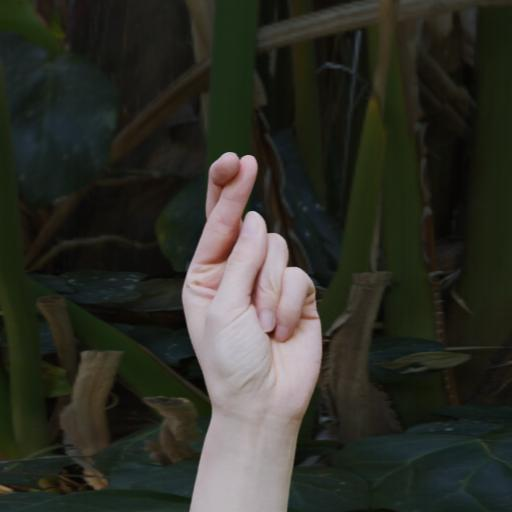R: (166, 135, 342, 510)
